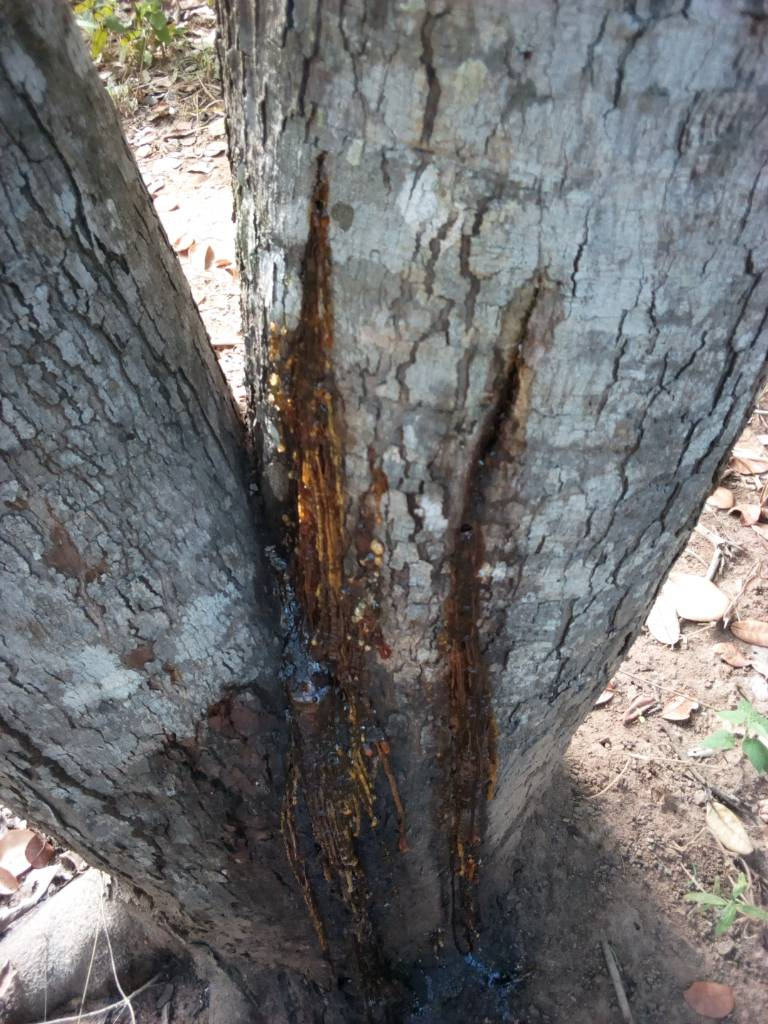Gommose: (272, 191, 396, 950), (446, 369, 513, 932)
